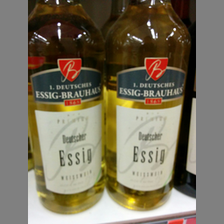vinegar: (106, 1, 191, 216), (29, 1, 109, 214)
